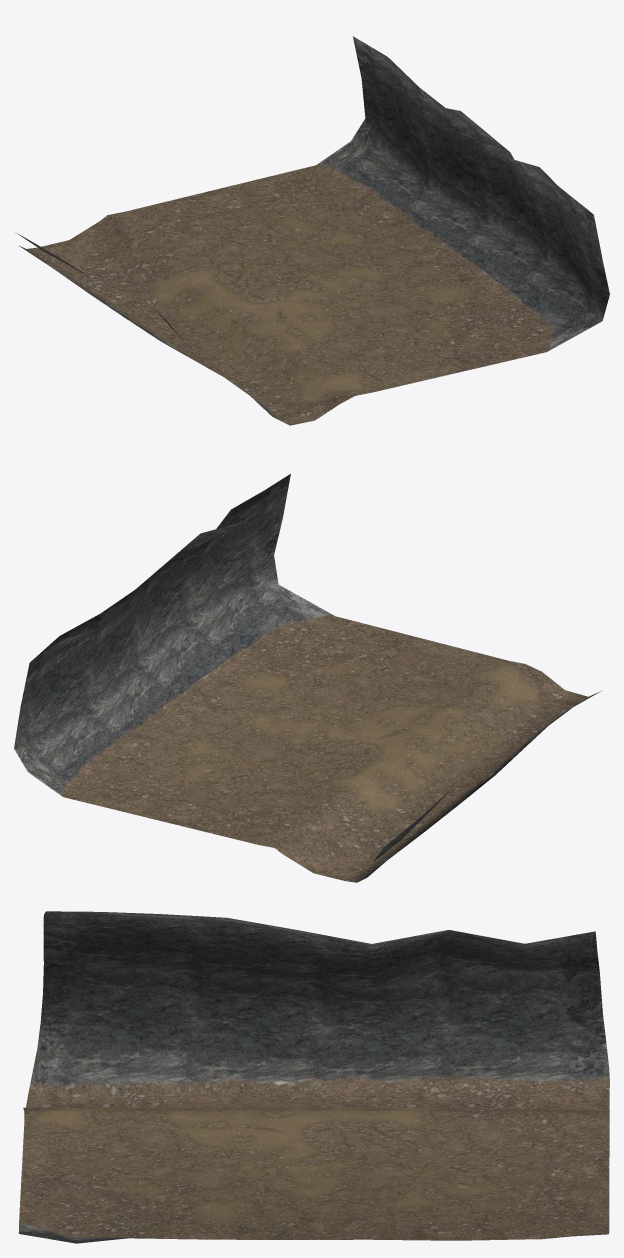
The model's file is TunnelA2.glb.
3 views of the same model, one above another, from view 1: azimuth 30°, elevation 25°; view 2: azimuth 150°, elevation 25°; view 3: azimuth 270°, elevation 25° (orthographic). The views are drawn at different scales.
Visible parts, largest first — view 1: TunnelA2; view 2: TunnelA2; view 3: TunnelA2.
Boxes of the visible parts, x1=… form: TunnelA2: x1=15, y1=36, x2=609, y2=425; TunnelA2: x1=14, y1=474, x2=600, y2=882; TunnelA2: x1=18, y1=911, x2=609, y2=1243.
Bounding box in the file's own units: 4.24 × 2.29 × 5.17.
Materials: 1 (1 with a texture image).
